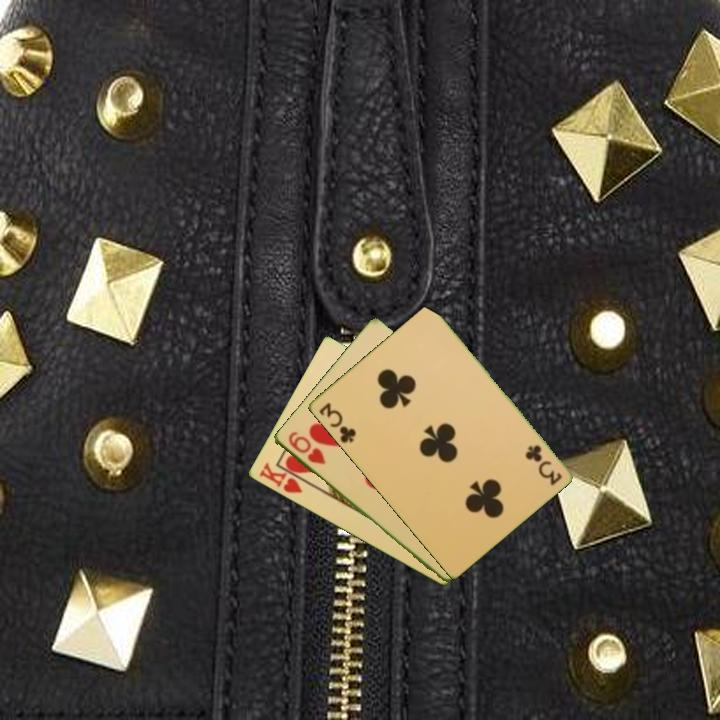3c: (315, 399, 359, 446), (522, 441, 565, 488)
6h: (284, 428, 328, 468)
Kh: (255, 459, 312, 496)
